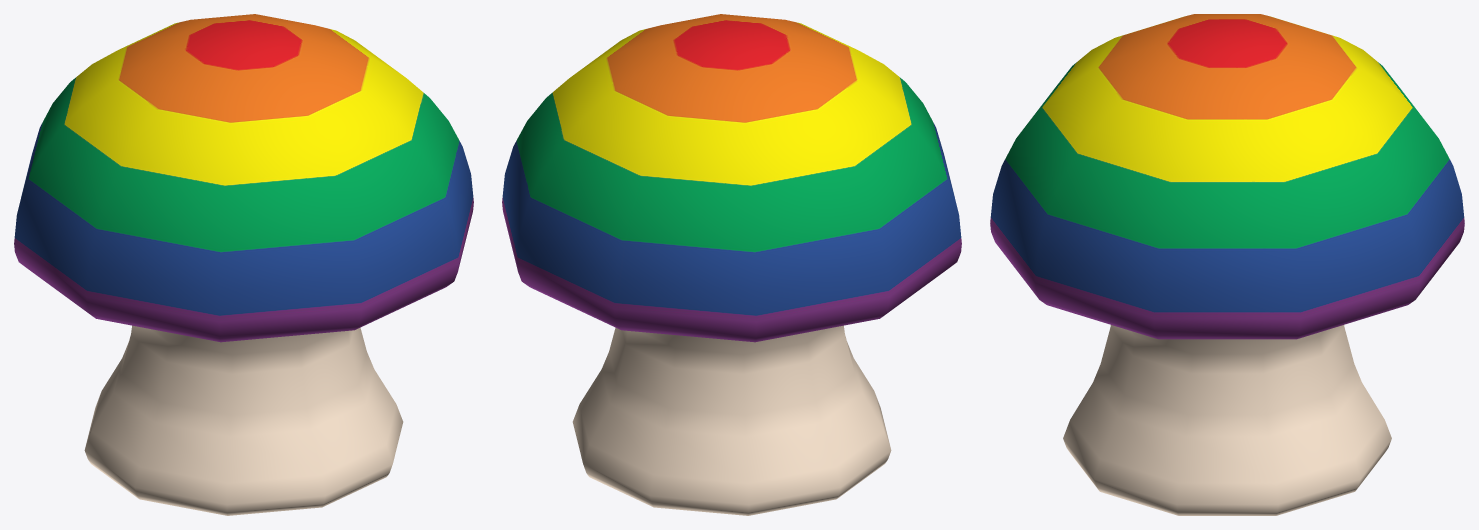
The model's file is mushroom.fbx.
3 renders of one model, left to right at view 1: azimuth 30°, elevation 25°; view 2: azimuth 150°, elevation 25°; view 3: azimuth 270°, elevation 25°, orthographic.
Visible parts, largest first — view 1: mushroom; view 2: mushroom; view 3: mushroom.
Boxes of the visible parts, x1=… form: mushroom: x1=14, y1=14, x2=473, y2=515; mushroom: x1=502, y1=14, x2=961, y2=515; mushroom: x1=990, y1=14, x2=1464, y2=515.
Size of the model in its own units: 130 by 134 by 136.
Materials: 2 (1 with a texture image).
